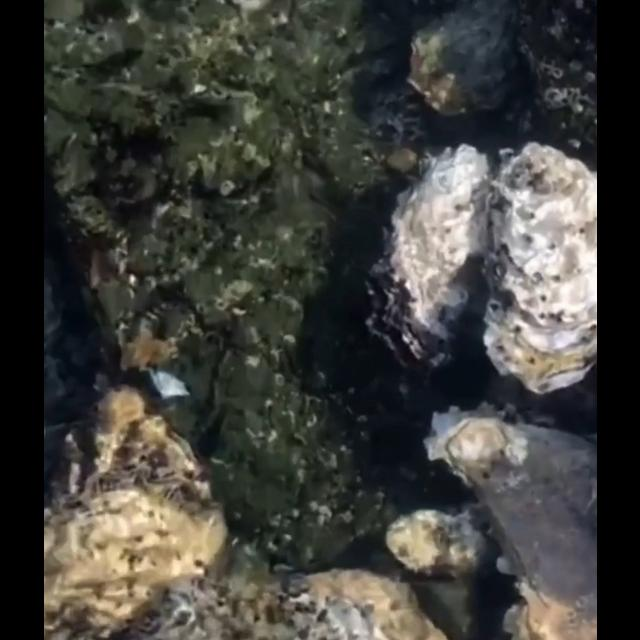Oyster-Closed: (43, 382, 227, 640), (419, 400, 596, 640), (478, 141, 596, 395), (134, 564, 446, 640), (407, 0, 519, 116), (384, 506, 490, 578)
Oyster-Open: (362, 138, 492, 372)
